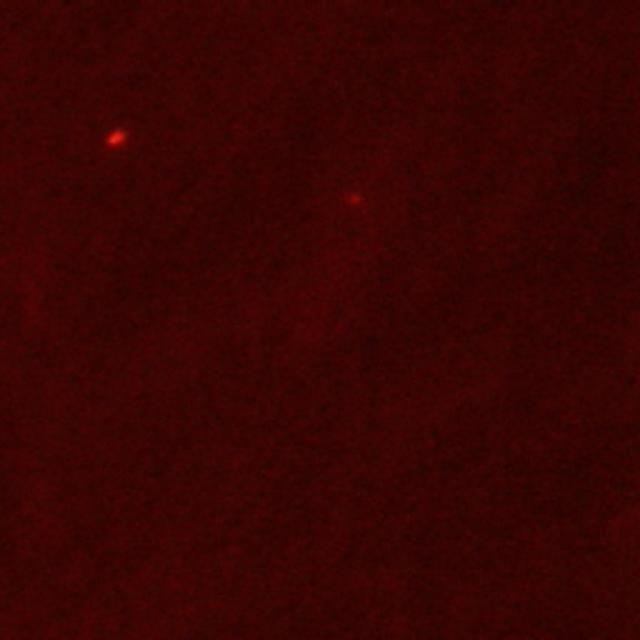Fragment: (102, 128, 128, 148)
